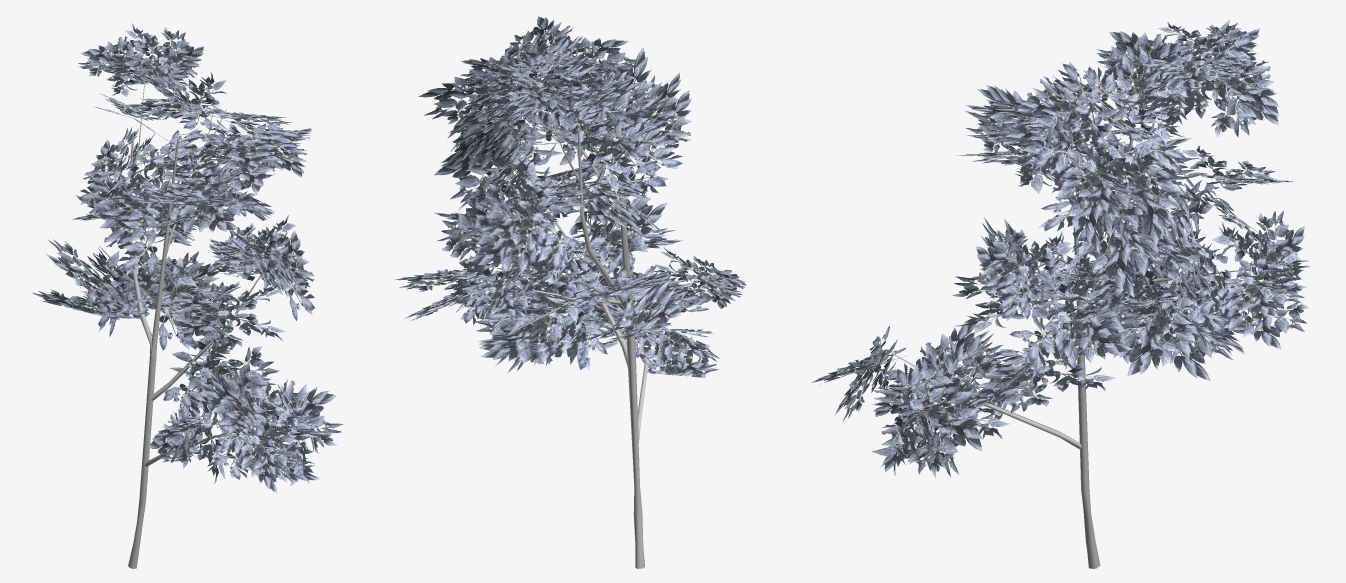
Rendered from shrub_hazel_02_winter.DAE.
The picture shows the model from 3 angles, left to right: view 1: azimuth 30°, elevation 25°; view 2: azimuth 150°, elevation 25°; view 3: azimuth 270°, elevation 25°; orthographic projection. The views are drawn at different scales.
Parts seen in each view (by area): view 1: shrub_hazel02_CommonHazelLeaves_1, shrub_hazel02_CommonHazelBark; view 2: shrub_hazel02_CommonHazelLeaves_1, shrub_hazel02_CommonHazelBark; view 3: shrub_hazel02_CommonHazelLeaves_1, shrub_hazel02_CommonHazelBark.
Boxes of the visible parts, x1,y1,x2,y2 form: shrub_hazel02_CommonHazelLeaves_1: [32, 23, 343, 493]; shrub_hazel02_CommonHazelBark: [99, 71, 294, 568]; shrub_hazel02_CommonHazelLeaves_1: [395, 16, 746, 377]; shrub_hazel02_CommonHazelBark: [493, 55, 699, 568]; shrub_hazel02_CommonHazelLeaves_1: [811, 20, 1309, 477]; shrub_hazel02_CommonHazelBark: [891, 71, 1253, 568].
Bounding box in the file's own units: 2 × 3.44 × 2.84.
